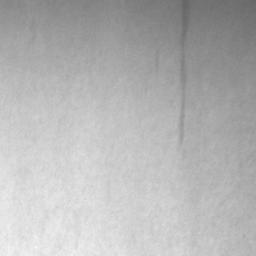Inclusion: (179, 55, 188, 143), (182, 0, 191, 49)
